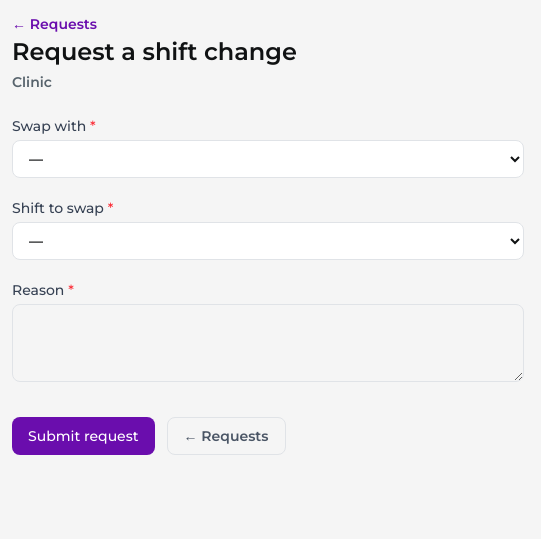
NewRequestPage › shows target-required error when target is blank
Expected: the heading "Request a shift change" is shown, [12,37,297,66]
Step 1. Click the button "Submit request" → [83, 436], box [12,417,154,455]
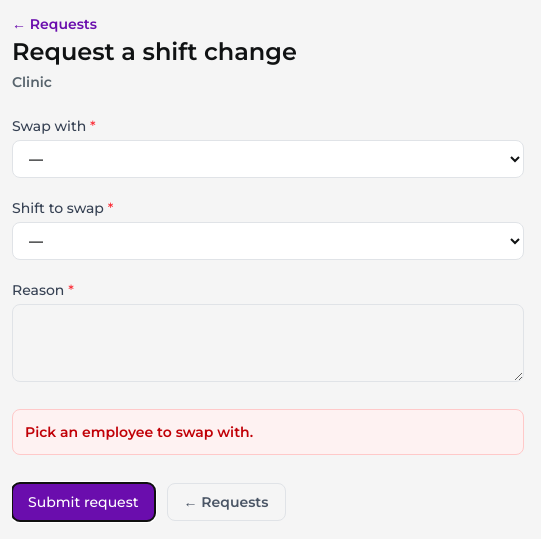
Result: the text "Pick an employee to swap with." is shown at [12,409,524,455]
